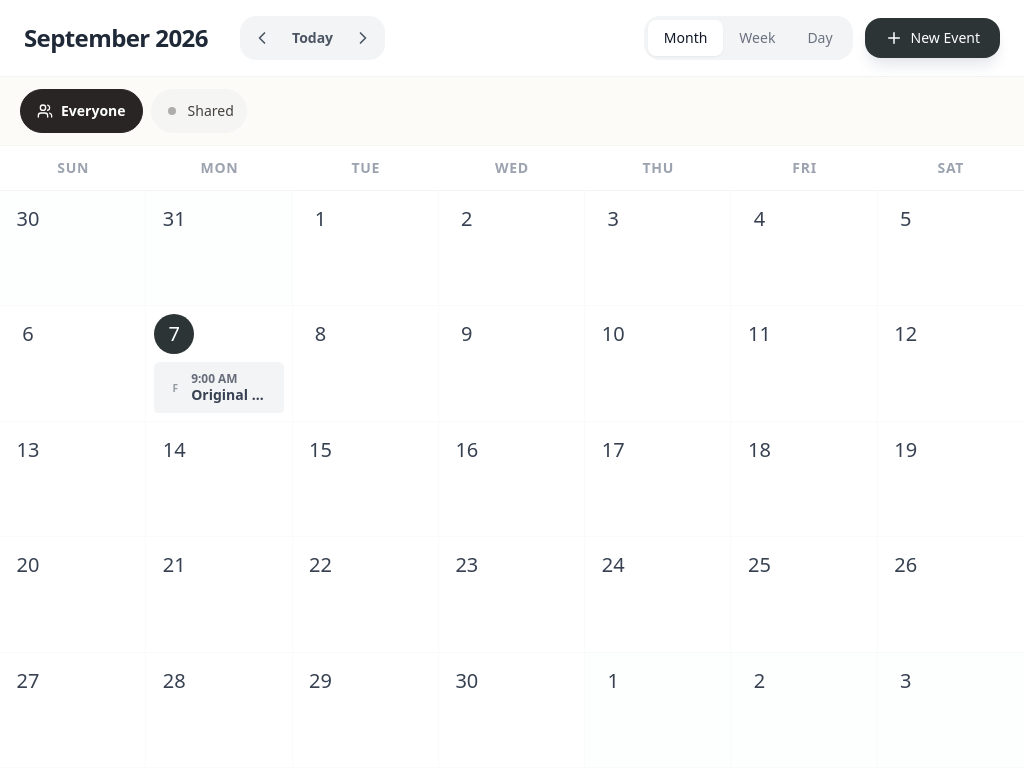
keeps a conflicting draft and uses the refreshed version only after explicit reload
The image size is (1024, 768).
Click the button "F 9:00 AM Original event" at (219, 388), box [154,362,284,413]
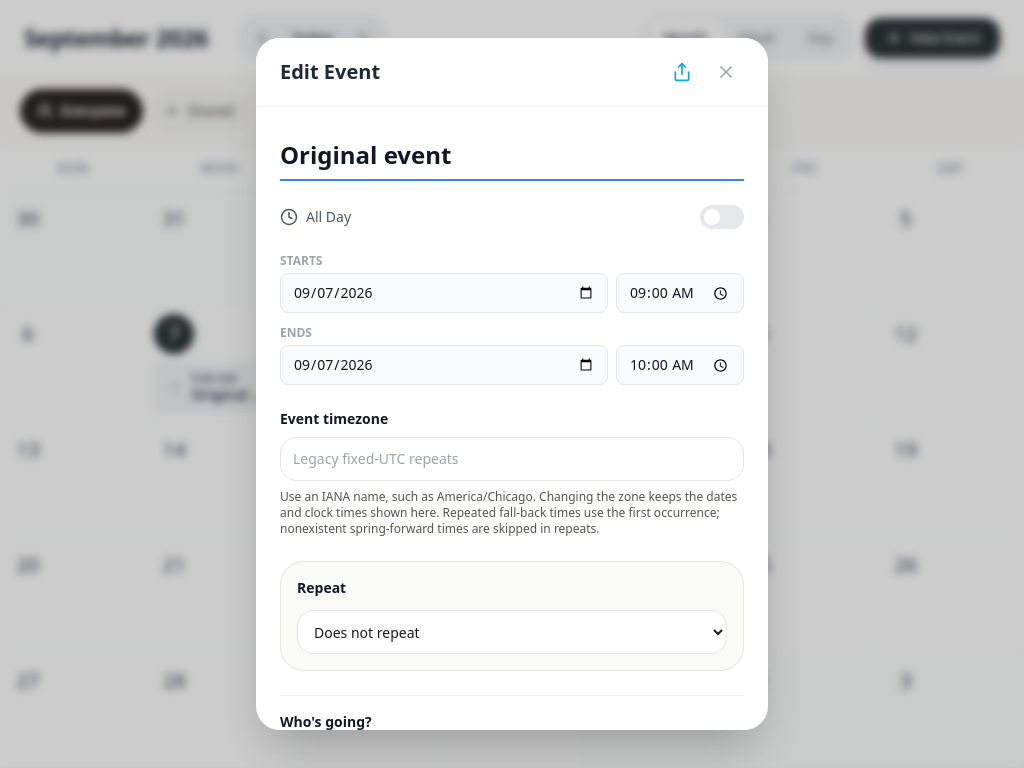
Replace the text in the field named "Event title" with "My unsaved draft" at (512, 156), box [280,131,744,181]
(page scrolled)
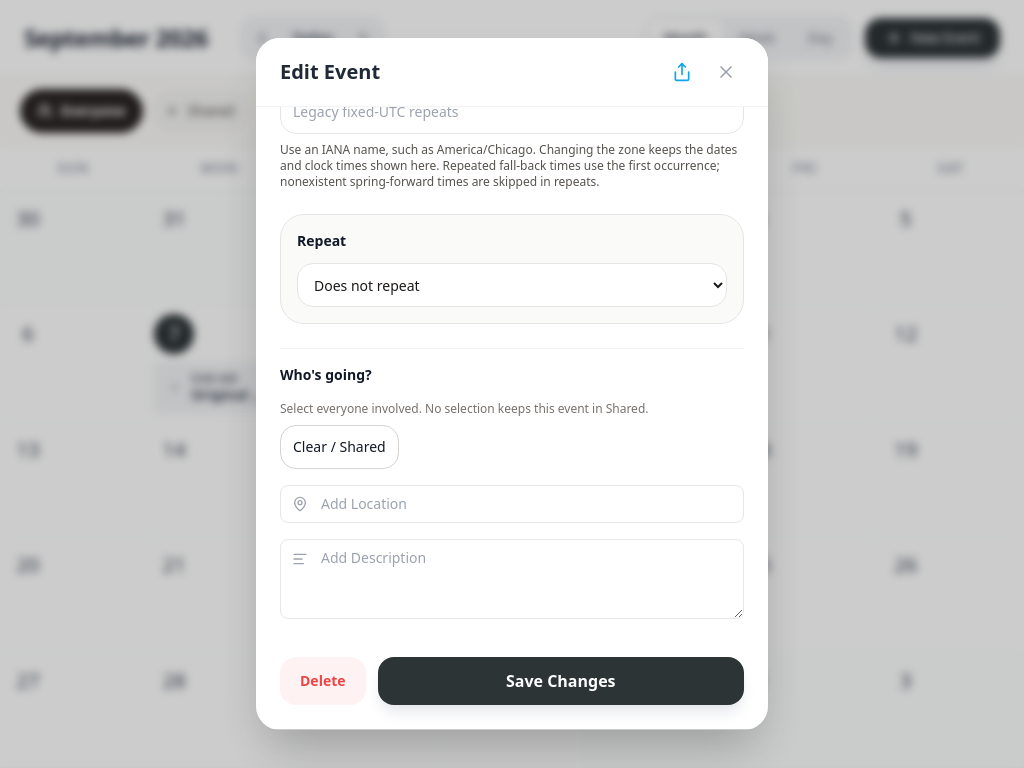
Click the button "Save Changes" at (561, 681), box [378,657,744,705]
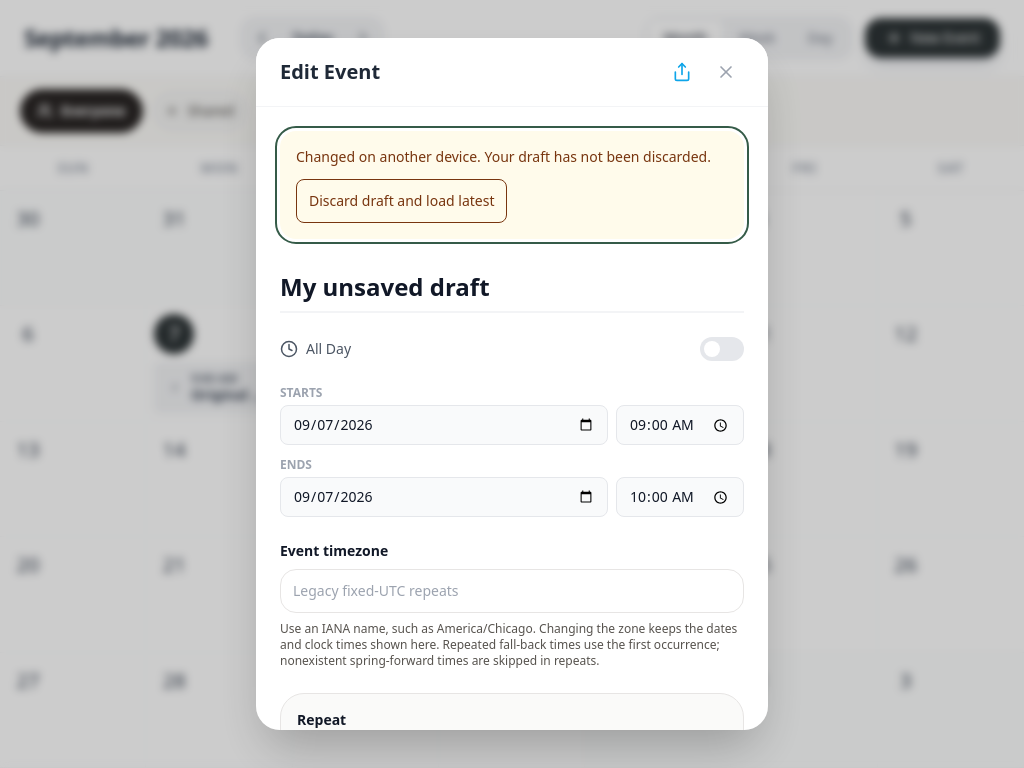
Expected: the message is shown, [280,131,744,239]
Click the button "Discard draft and load latest" at (402, 201), box [296,179,508,223]
(page scrolled)
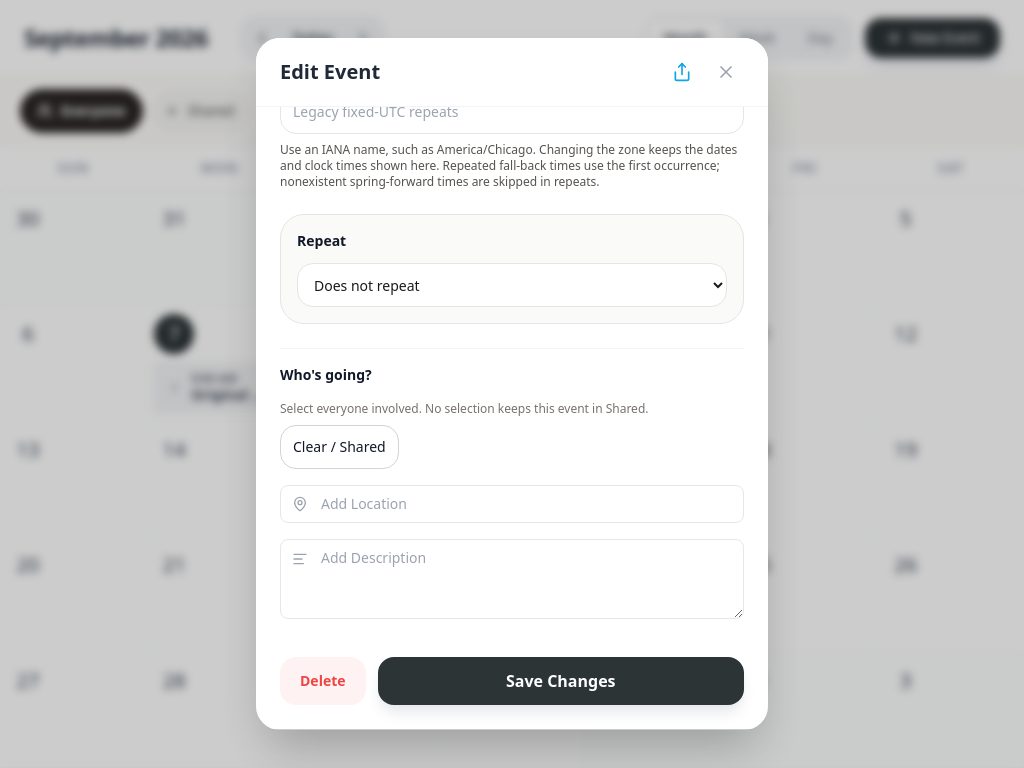
Expected: the button "Save Changes" is enabled
Click the button "Save Changes" at (561, 681), box [378,657,744,705]
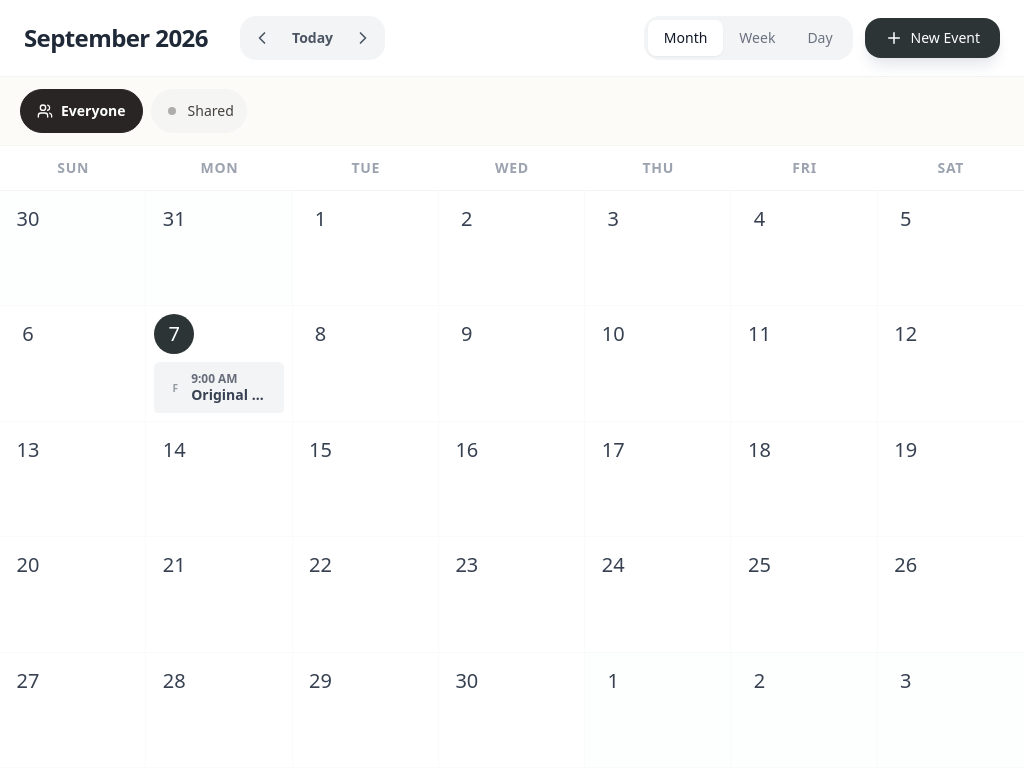
Expected: the heading "Edit Event" is gone
